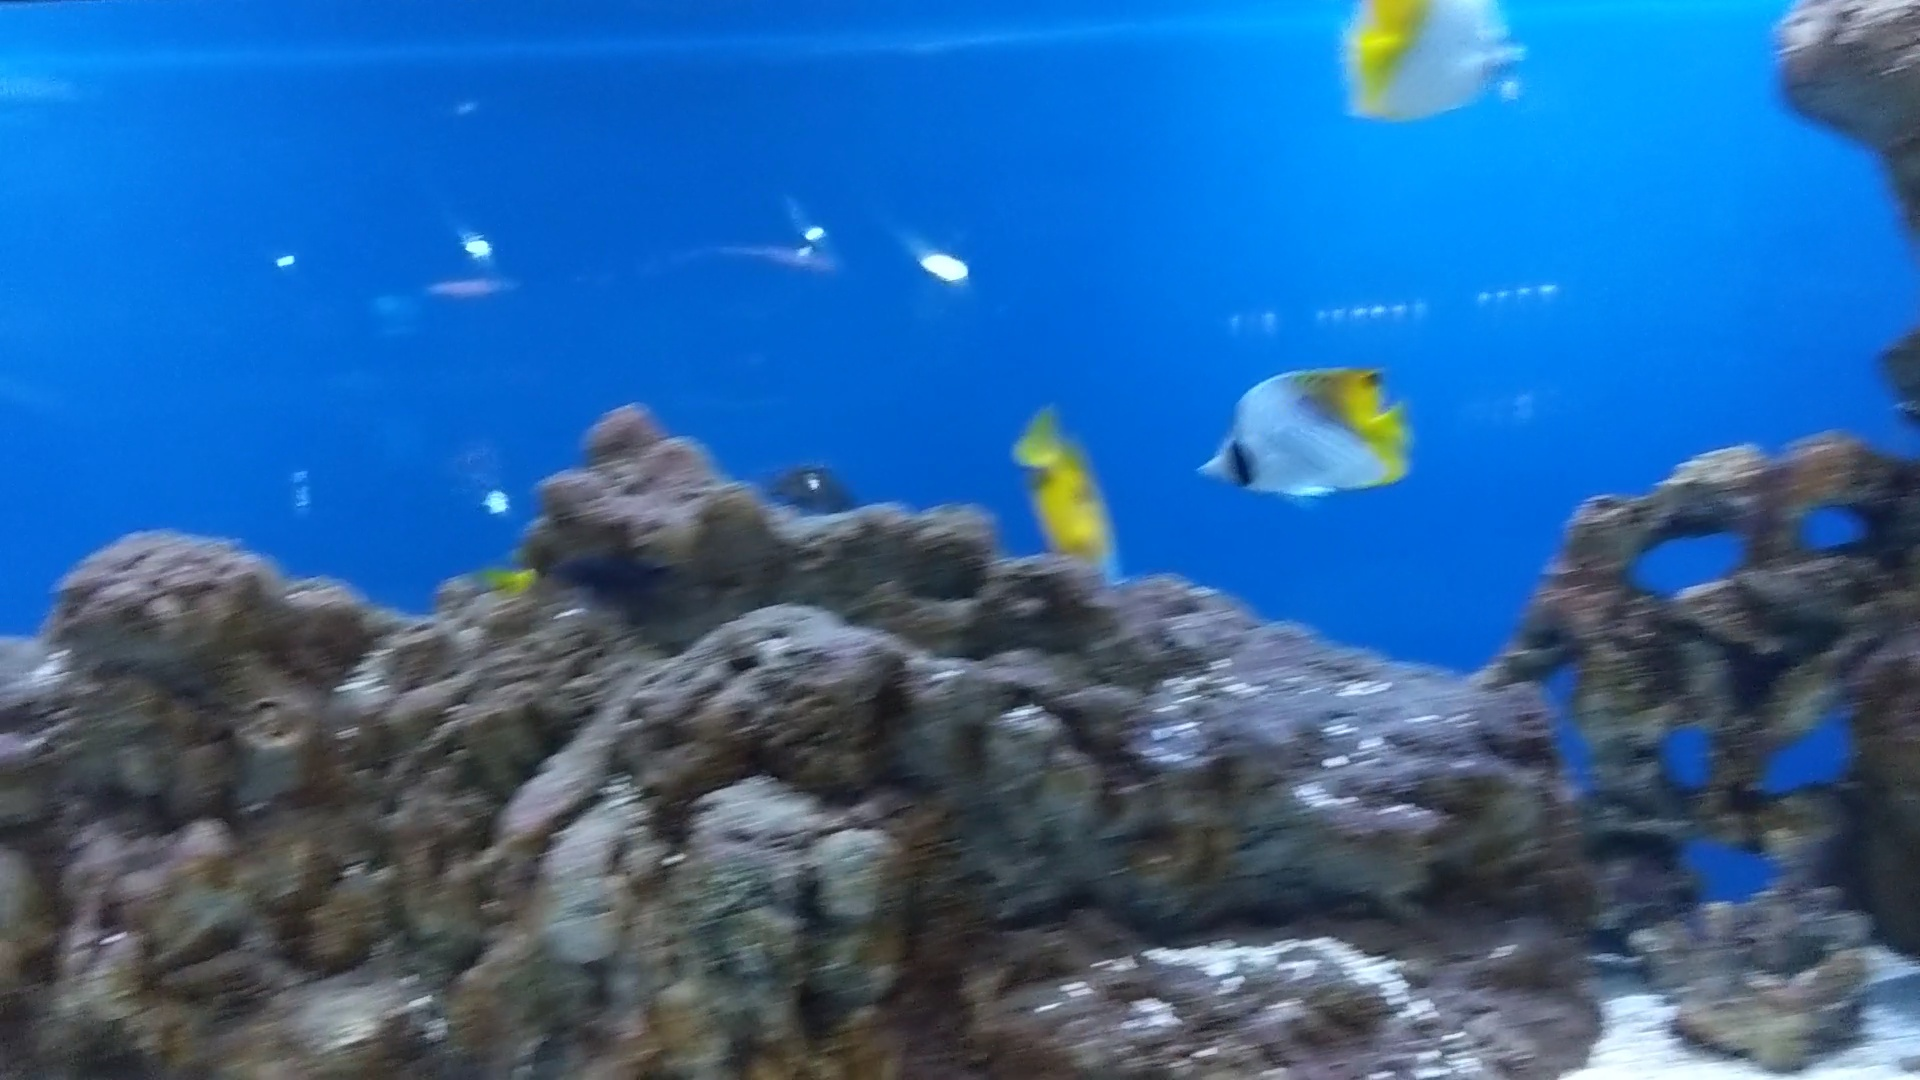butterflyfish: (1176, 367, 1416, 502), (1319, 0, 1536, 131)
rabbitfish: (1009, 394, 1125, 584)
